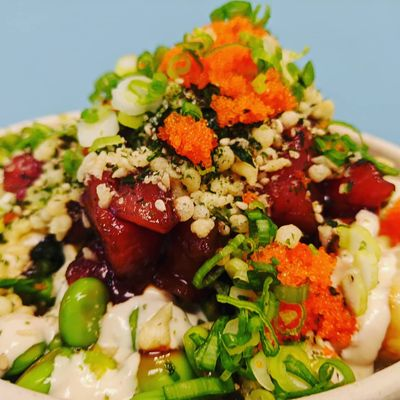sandwich: (1, 3, 400, 400)
